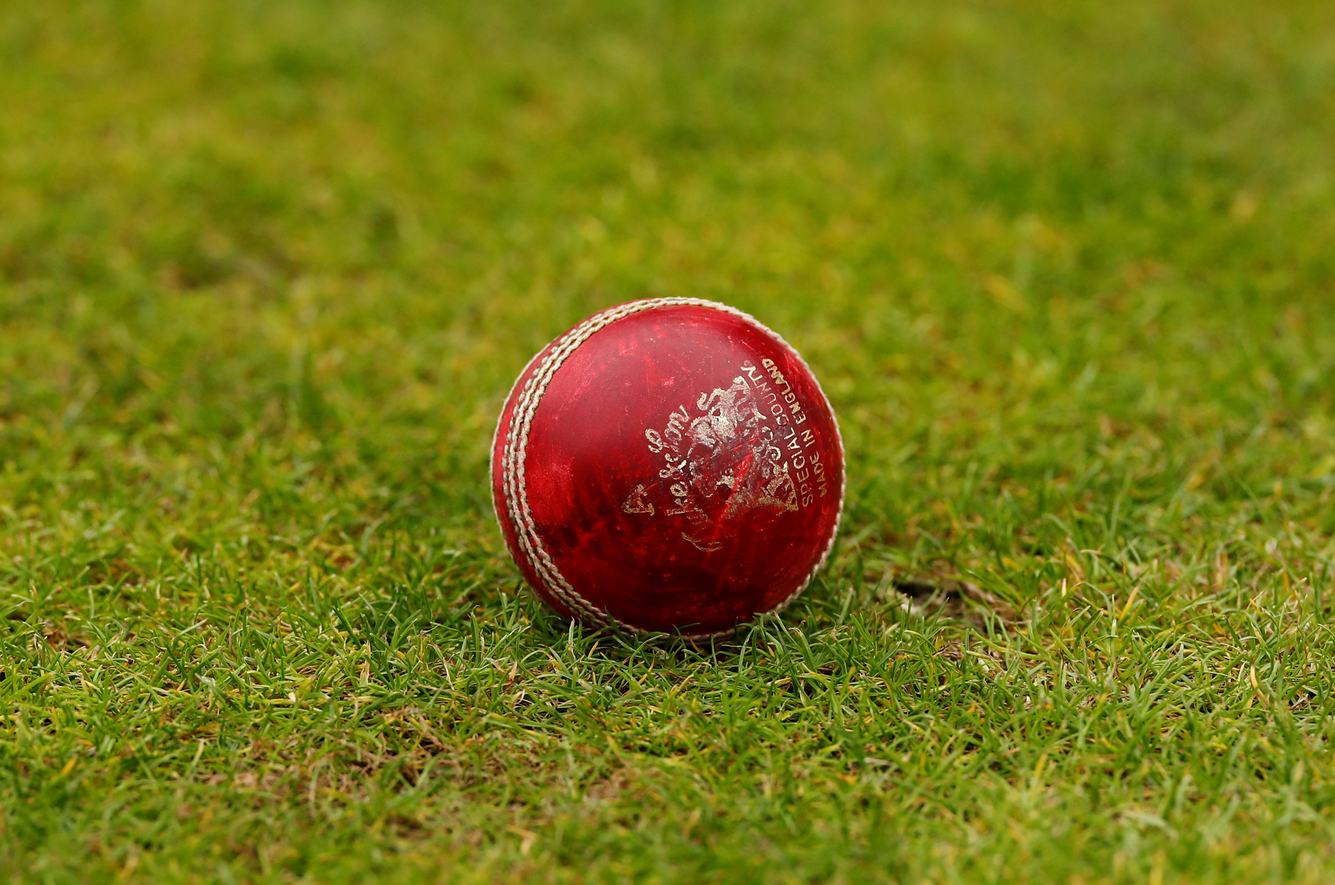sphere: (489, 296, 846, 649)
